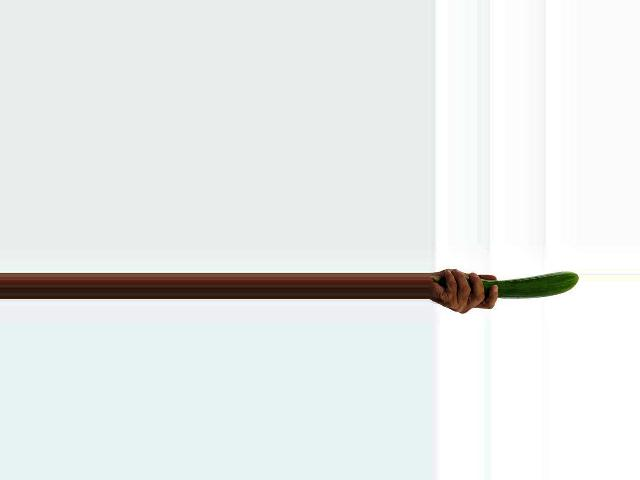cucumber: (433, 271, 579, 298)
